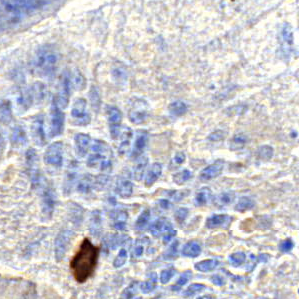Lymphocyte: (68, 236, 102, 284)
